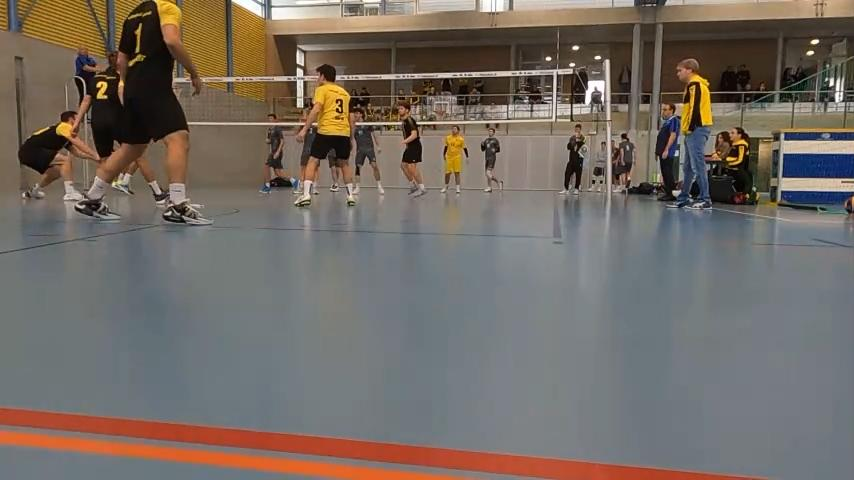ricezione: (12, 113, 96, 203)
